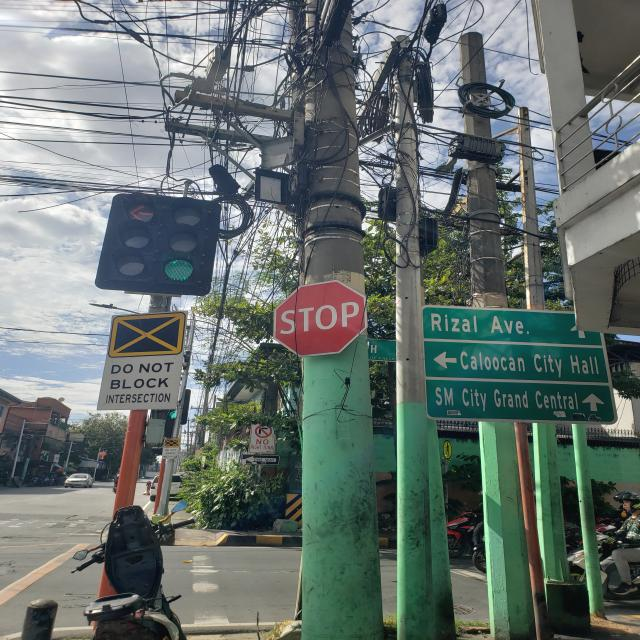stop-sign: (274, 279, 368, 358)
